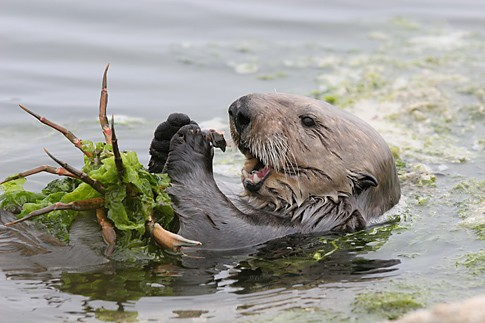otter: (208, 68, 416, 257)
